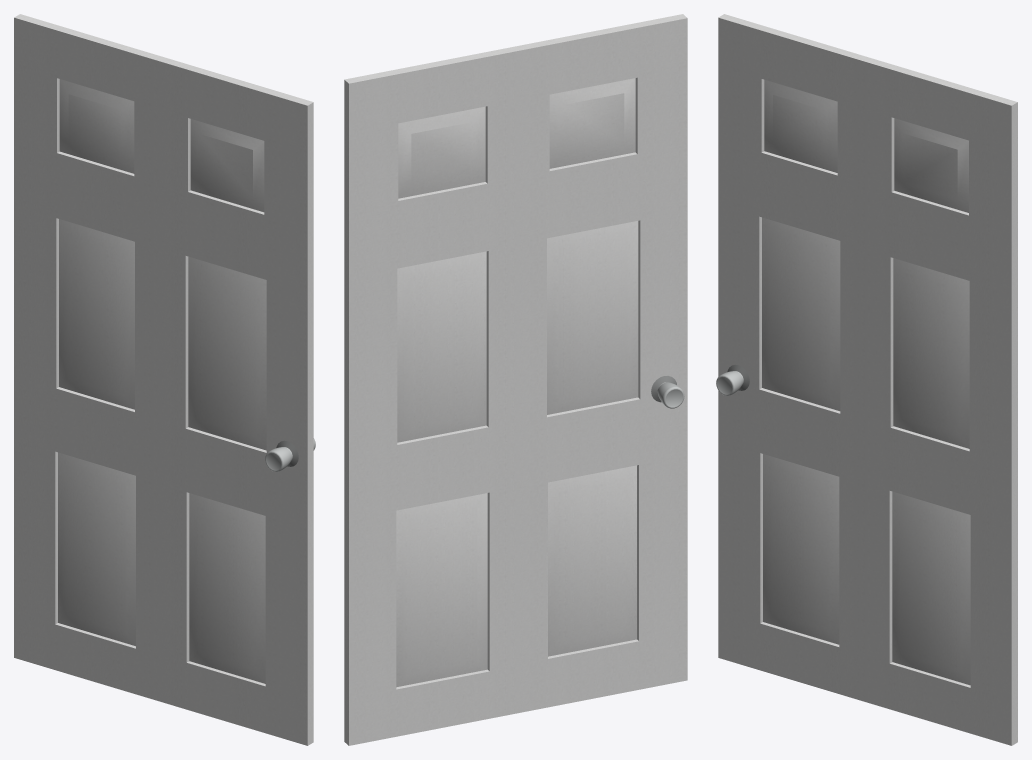
Rendered from bedroom door.fbx.
3 renders of one model, left to right at view 1: azimuth 90°, elevation 25°; view 2: azimuth 150°, elevation 25°; view 3: azimuth 270°, elevation 25°, orthographic. The views are drawn at different scales.
Visible parts, largest first — view 1: bedroom door; view 2: bedroom door; view 3: bedroom door.
Boxes of the visible parts, x1,y1,x2,y2 form: bedroom door: (14,14,315,745); bedroom door: (344,14,687,745); bedroom door: (716,14,1017,745).
Bounding box in the file's own units: 64.52 × 200 × 85.38.
Materials: 1 (1 with a texture image).
